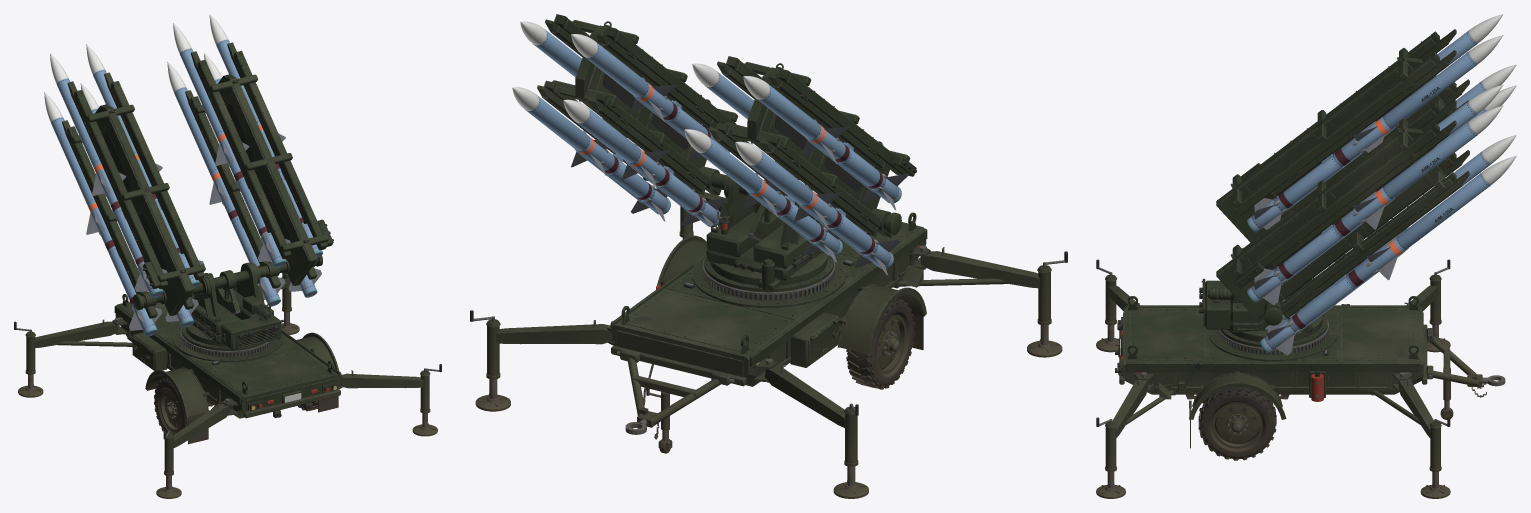
Rendered from hawk_xxi_launcher_with_aim-120_missiles.glb.
The picture shows the model from 3 angles, left to right: view 1: azimuth 30°, elevation 25°; view 2: azimuth 150°, elevation 25°; view 3: azimuth 270°, elevation 25°; orthographic projection. The views are drawn at different scales.
Visible parts, largest first — view 1: cradle_frame_55, body_frame_1, body_legs_3, body_run_4, cradle_rails_6, turret_main_58, msl_6_AIM_body_37, msl_3_AIM_body_19, msl_8_AIM_body_49, msl_1_AIM_body_7, turret_detail_56, body_hw_2 (+5 smaller); view 2: body_frame_1, cradle_frame_55, body_legs_3, body_run_4, cradle_rails_6, turret_main_58, msl_1_AIM_body_7, msl_3_AIM_body_19, msl_8_AIM_body_49, msl_7_AIM_body_43, msl_4_AIM_body_25, body_bar_0 (+5 smaller); view 3: cradle_frame_55, body_frame_1, body_legs_3, body_run_4, cradle_rails_6, msl_4_AIM_body_25, msl_2_AIM_body_13, msl_5_AIM_body_31, body_hw_2, body_bar_0, turret_main_58, turret_detail_56 (+5 smaller).
Part boxes in pixels (x1,y1,x2,y2): cradle_frame_55: [67, 50, 328, 318]; body_frame_1: [114, 288, 341, 418]; body_legs_3: [14, 272, 441, 498]; body_run_4: [145, 332, 339, 444]; cradle_rails_6: [62, 42, 306, 294]; turret_main_58: [181, 262, 273, 350]; msl_6_AIM_body_37: [173, 23, 286, 267]; msl_3_AIM_body_19: [44, 92, 157, 336]; msl_8_AIM_body_49: [167, 62, 280, 306]; msl_1_AIM_body_7: [50, 53, 163, 297]; turret_detail_56: [191, 283, 284, 349]; body_hw_2: [120, 273, 337, 417]; body_frame_1: [610, 222, 927, 386]; cradle_frame_55: [544, 14, 910, 240]; body_legs_3: [470, 184, 1067, 498]; body_run_4: [657, 235, 926, 389]; cradle_rails_6: [537, 19, 886, 236]; turret_main_58: [704, 176, 833, 292]; msl_1_AIM_body_7: [743, 76, 901, 203]; msl_3_AIM_body_19: [735, 141, 893, 268]; msl_8_AIM_body_49: [563, 99, 720, 226]; msl_7_AIM_body_43: [684, 129, 842, 256]; msl_4_AIM_body_25: [512, 87, 670, 214]; body_bar_0: [616, 349, 734, 453]; cradle_frame_55: [1216, 31, 1456, 329]; body_frame_1: [1119, 305, 1427, 394]; body_legs_3: [1096, 259, 1450, 498]; body_run_4: [1186, 371, 1289, 460]; cradle_rails_6: [1270, 29, 1469, 319]; msl_4_AIM_body_25: [1260, 155, 1516, 353]; msl_2_AIM_body_13: [1247, 105, 1503, 302]; msl_5_AIM_body_31: [1247, 35, 1503, 232]; body_hw_2: [1115, 296, 1418, 401]; body_bar_0: [1426, 328, 1505, 419]; turret_main_58: [1220, 279, 1327, 347]; turret_detail_56: [1199, 278, 1240, 329].
Bounding box in the file's own units: 4.43 × 4.67 × 4.94.
Materials: 10 (6 with a texture image).
